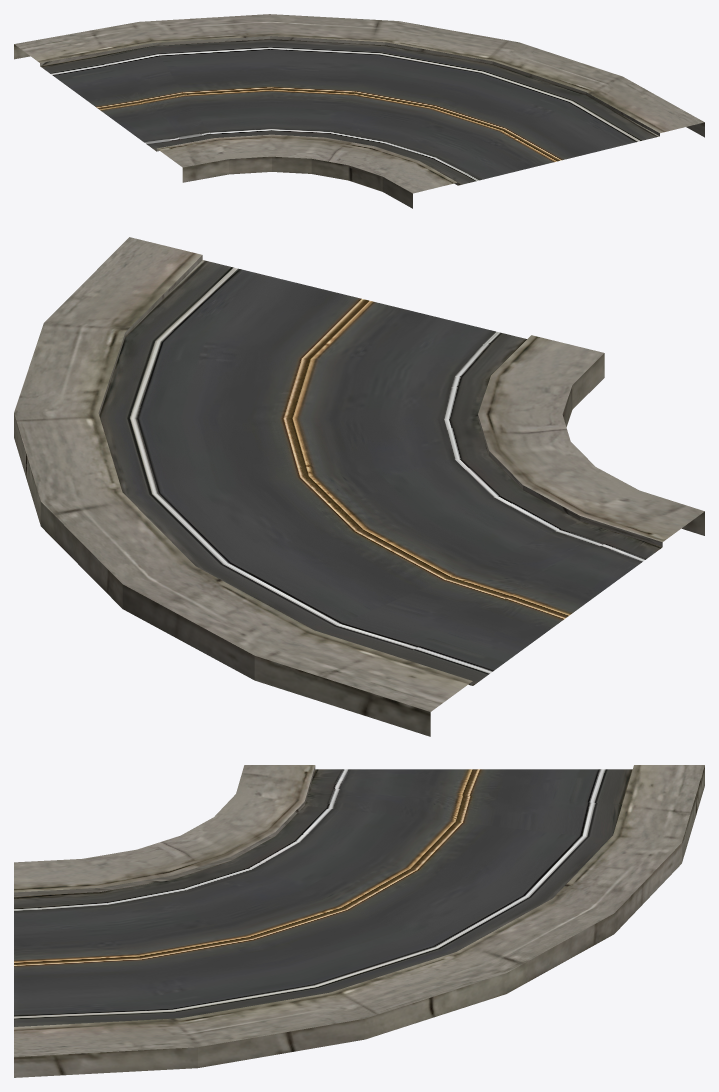
File: STREET_CURVE.fbx
3 renders of one model, top to bottom at view 1: azimuth 30°, elevation 25°; view 2: azimuth 150°, elevation 25°; view 3: azimuth 270°, elevation 25°, orthographic. The views are drawn at different scales.
Parts seen in each view (by area): view 1: STREET_CURVE; view 2: STREET_CURVE; view 3: STREET_CURVE.
Part boxes in pixels (x1=…): STREET_CURVE: x1=14, y1=14, x2=704, y2=208; STREET_CURVE: x1=14, y1=237, x2=704, y2=736; STREET_CURVE: x1=14, y1=765, x2=704, y2=1077.
Bounding box in the file's own units: 1347 × 44.91 × 1347.
